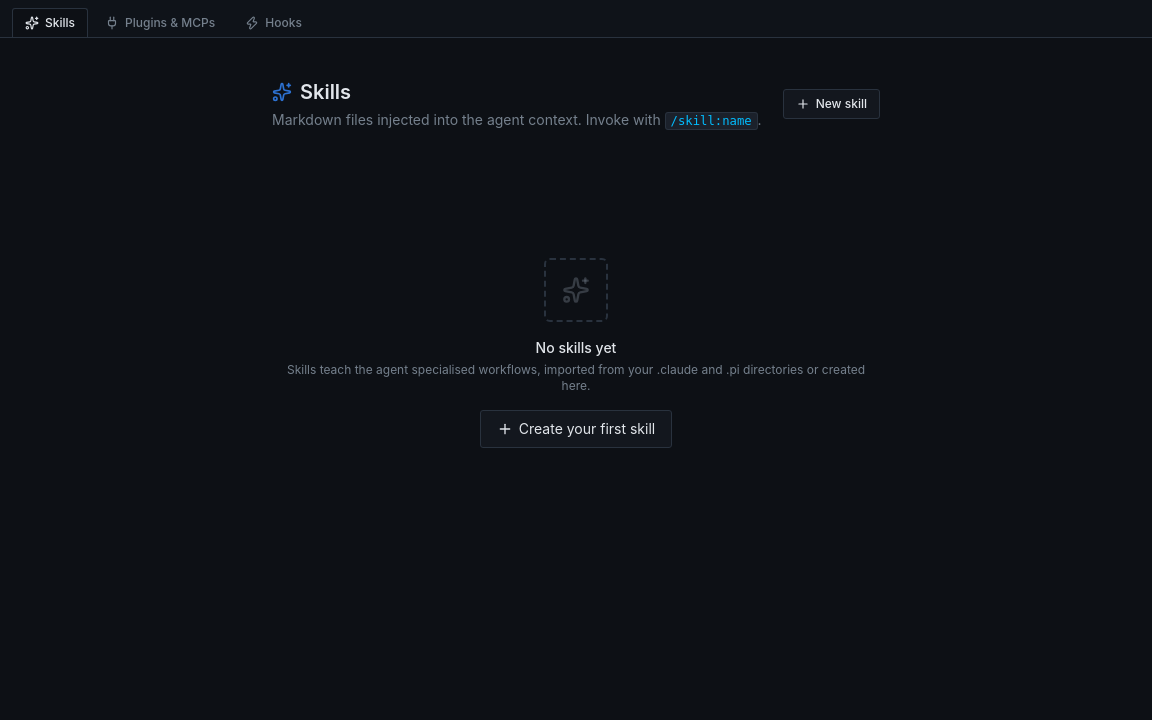
it: ExtensionsPanel › switches to Hooks content when that sub-tab is clicked
Step 1. Click the tab "Hooks" → point(274, 22), box x1=232 y1=8 x2=315 y2=37
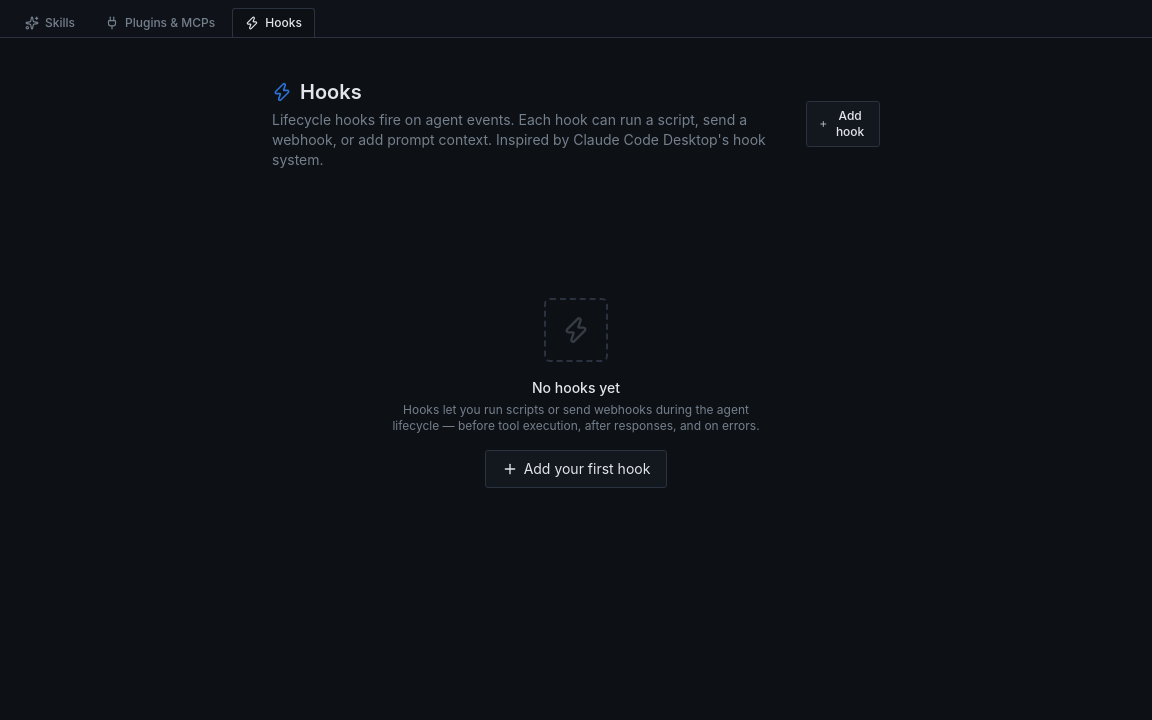
Expected: the heading "Hooks" is shown, x1=300 y1=78 x2=362 y2=106
